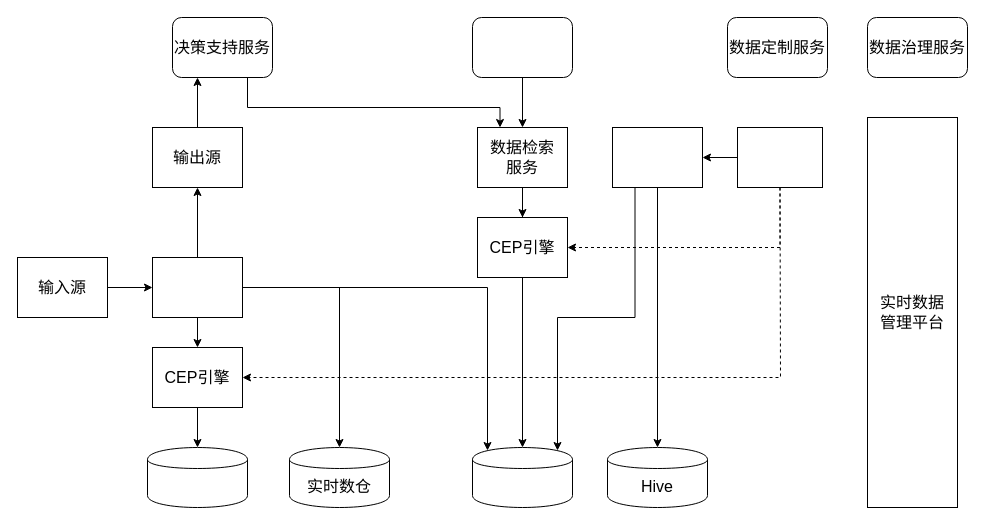
The diagram is 985 pixels wide and 525 high, and some of its shapes have lost their labels. Here are the shapes that lost their labels. From the top down, the box of each, then its label:
(472, 16, 572, 78): 数据查询服务
(612, 126, 702, 188): Z+
(736, 126, 822, 188): 数据加工 机器人
(152, 256, 242, 318): 实时数据 总线
(146, 446, 248, 508): Redis/AS
(472, 446, 572, 508): ES
